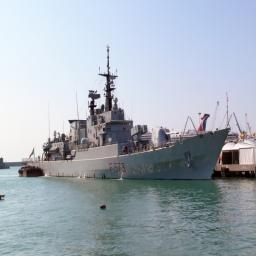Fragata: (23, 36, 232, 184)
